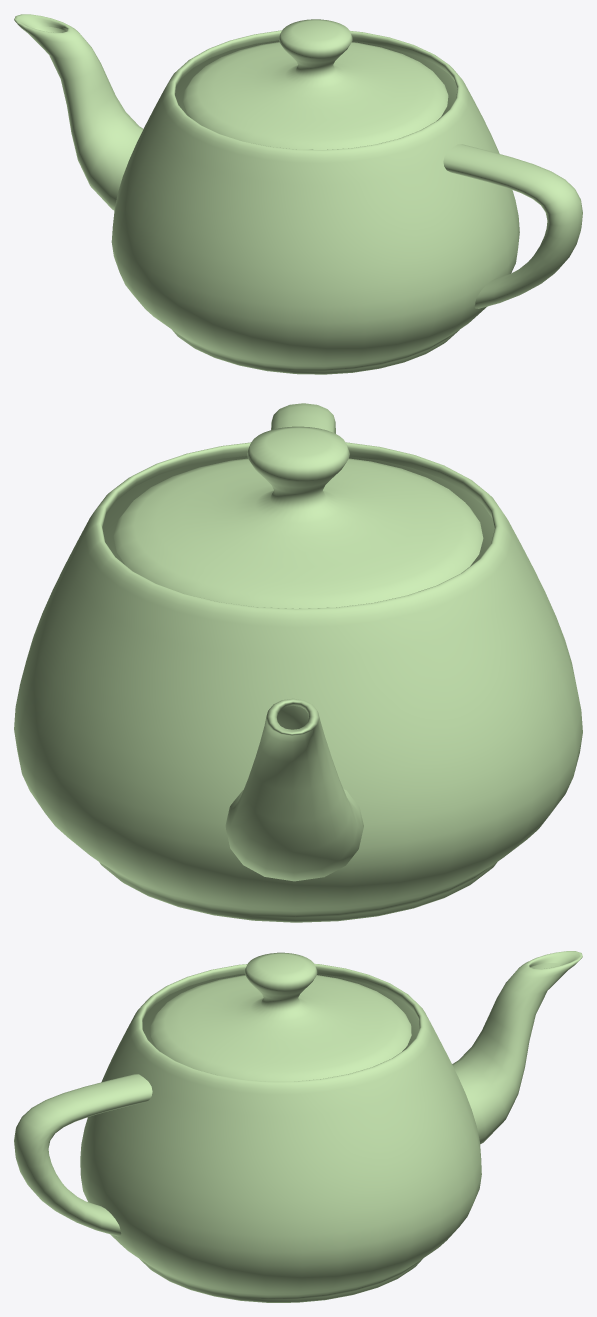
File: chahu.fbx
3 views of the same model, one above another, from view 1: azimuth 30°, elevation 25°; view 2: azimuth 150°, elevation 25°; view 3: azimuth 270°, elevation 25° (orthographic). The views are drawn at different scales.
Parts seen in each view (by area): view 1: Teapot001; view 2: Teapot001; view 3: Teapot001.
Boxes of the visible parts, x1=… form: Teapot001: x1=14, y1=14, x2=582, y2=374; Teapot001: x1=14, y1=403, x2=582, y2=922; Teapot001: x1=14, y1=951, x2=582, y2=1302.
Size of the model in its own units: 4.58 by 3.61 by 6.49.
